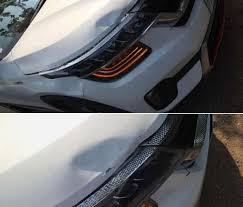bonnet-dent: (0, 113, 138, 206)
